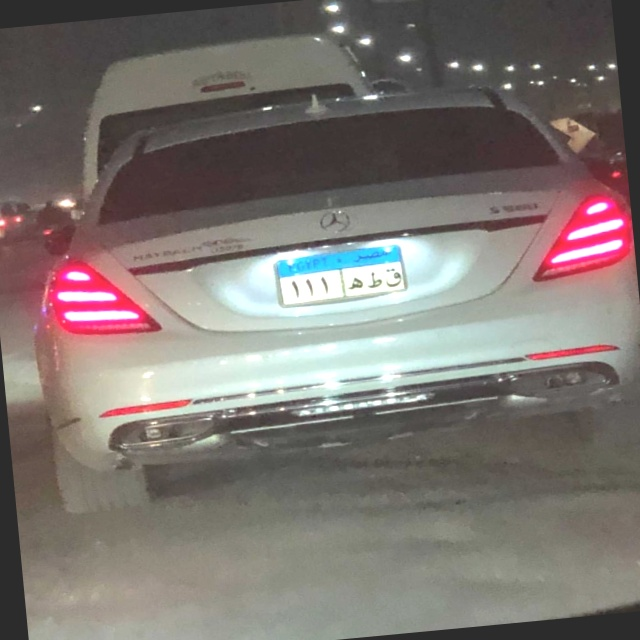License Plate: (276, 244, 407, 308)
